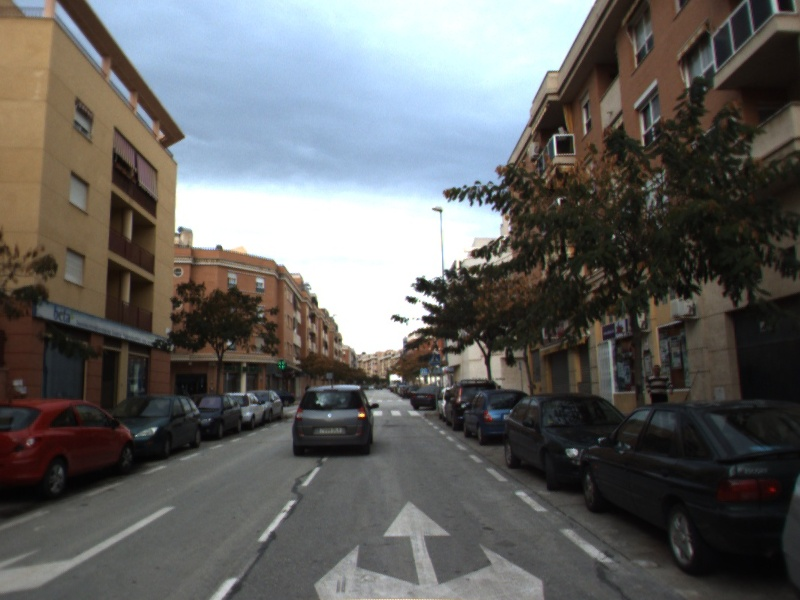STRAIGHT_LEFT_RIGHT: (310, 498, 548, 600)
